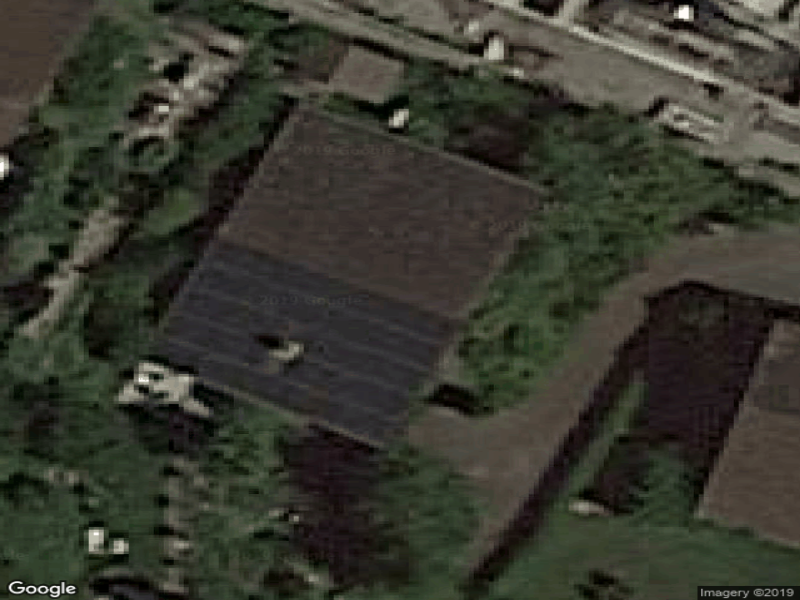pv: (158, 240, 459, 451)
